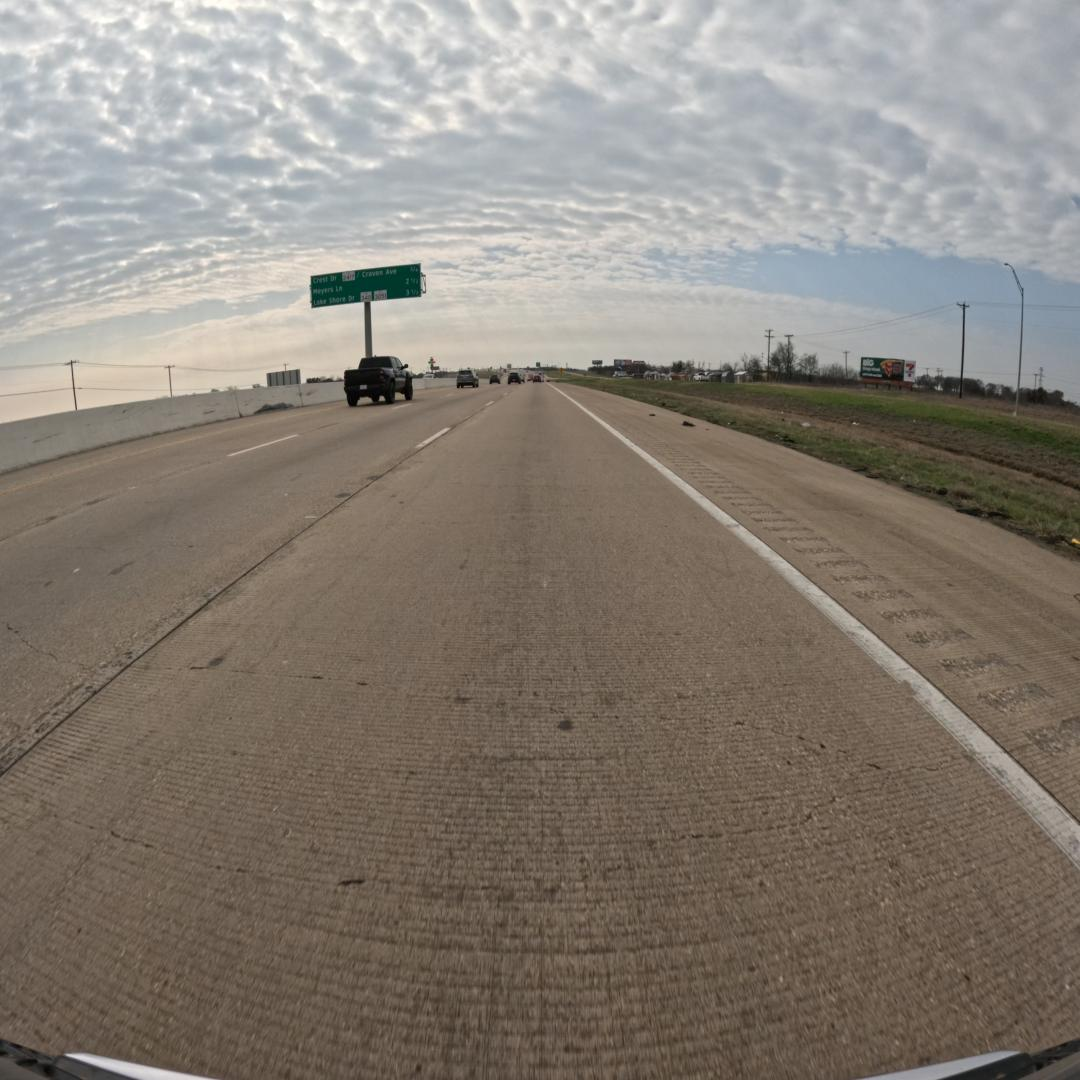lane0: (0, 386, 1080, 1077)
lane1: (0, 387, 508, 775)
